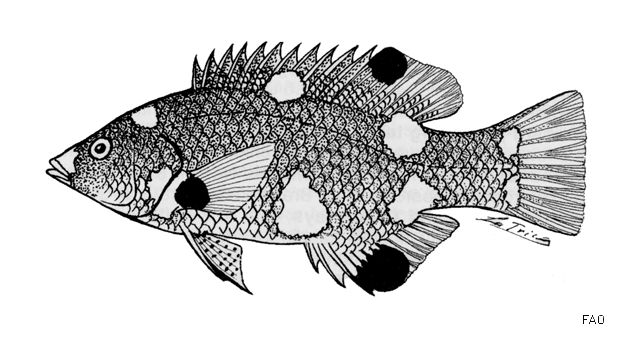fish: (46, 42, 588, 297)
